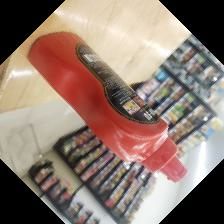Chinsu: (26, 31, 188, 184)
